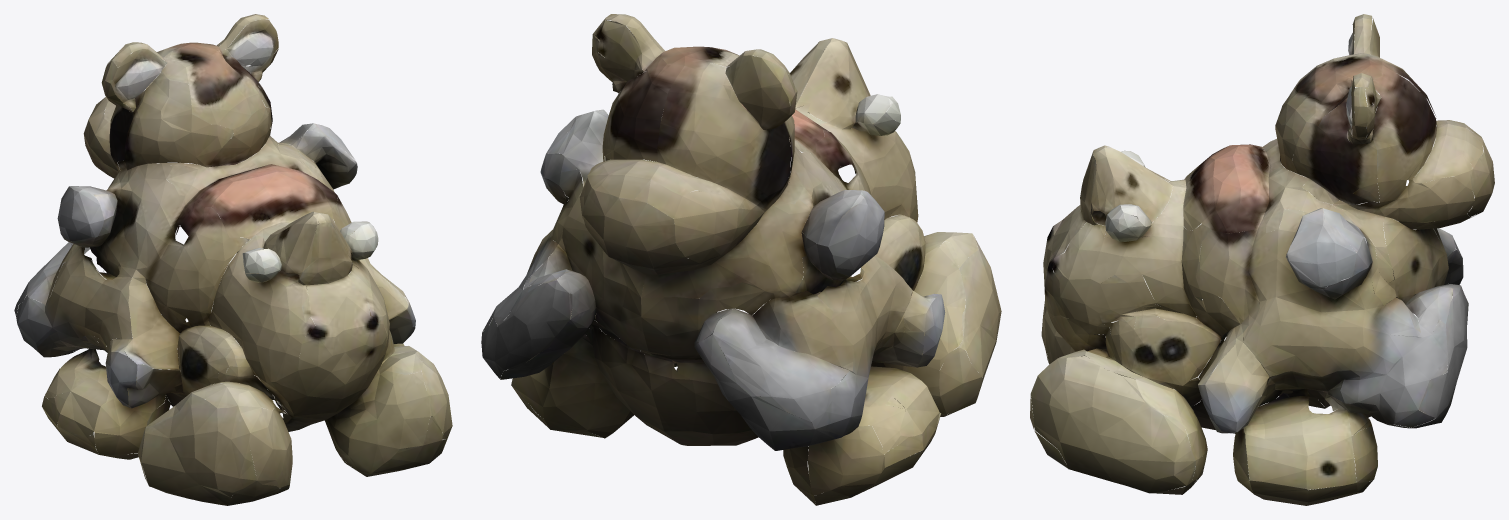
3 views of the same model, side by side, from view 1: azimuth 30°, elevation 25°; view 2: azimuth 150°, elevation 25°; view 3: azimuth 270°, elevation 25° (orthographic). The views are drawn at different scales.
Parts seen in each view (by area): view 1: world; view 2: world; view 3: world.
Boxes of the visible parts, <box> form: world: <box>14,14,452,505</box>; world: <box>481,14,1001,505</box>; world: <box>1030,14,1494,505</box>.
Size of the model in its own units: 0.8777 by 0.9388 by 0.9889.
Materials: 1 (1 with a texture image).
